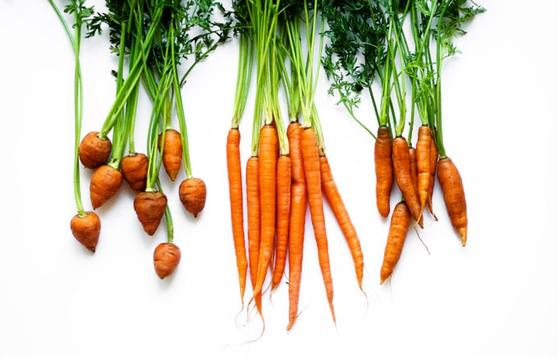carrot: (299, 128, 338, 317), (253, 122, 275, 277), (439, 151, 468, 251), (411, 125, 436, 220), (372, 126, 393, 214)
